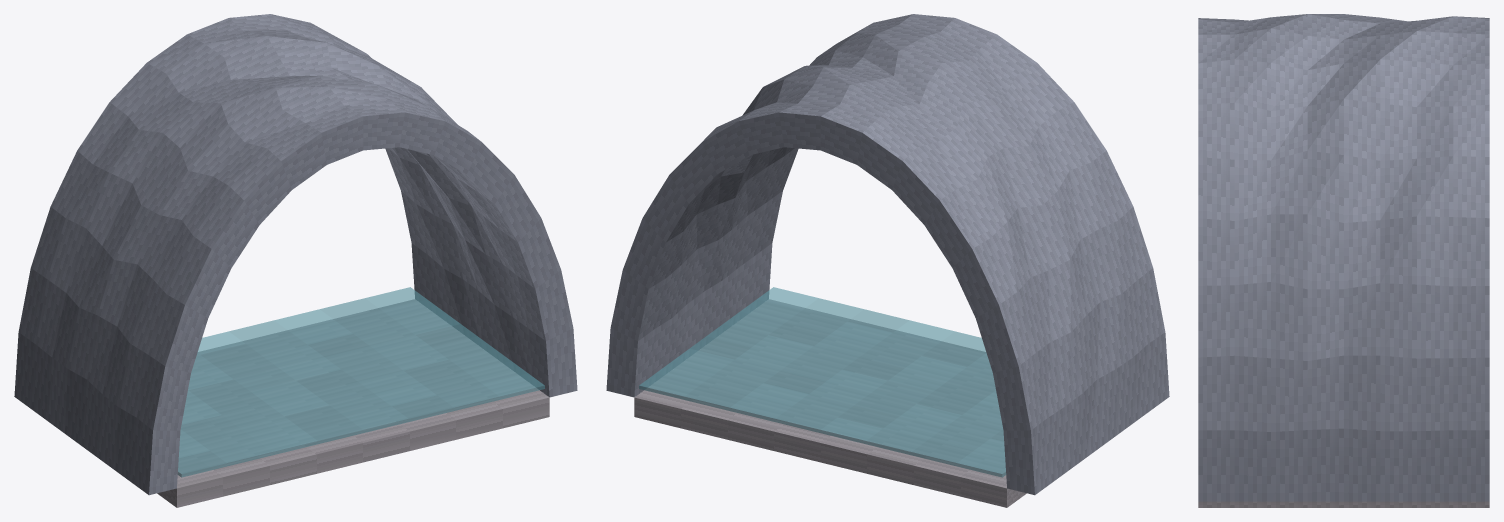
Rendered from cave-and-crystal-networks-sea-cave-mouth-837bb362.glb.
The picture shows the model from 3 angles, left to right: view 1: azimuth 30°, elevation 25°; view 2: azimuth 150°, elevation 25°; view 3: azimuth 270°, elevation 25°; orthographic projection. The views are drawn at different scales.
Parts seen in each view (by area): view 1: sea-cave-mouth; view 2: sea-cave-mouth; view 3: sea-cave-mouth.
Boxes of the visible parts, x1,y1,x2,y2 form: sea-cave-mouth: (14,14,577,507); sea-cave-mouth: (606,14,1169,507); sea-cave-mouth: (1198,14,1489,507).
Size of the model in its own units: 4.6 by 3.61 by 2.5.
Materials: 3 (3 with a texture image).
